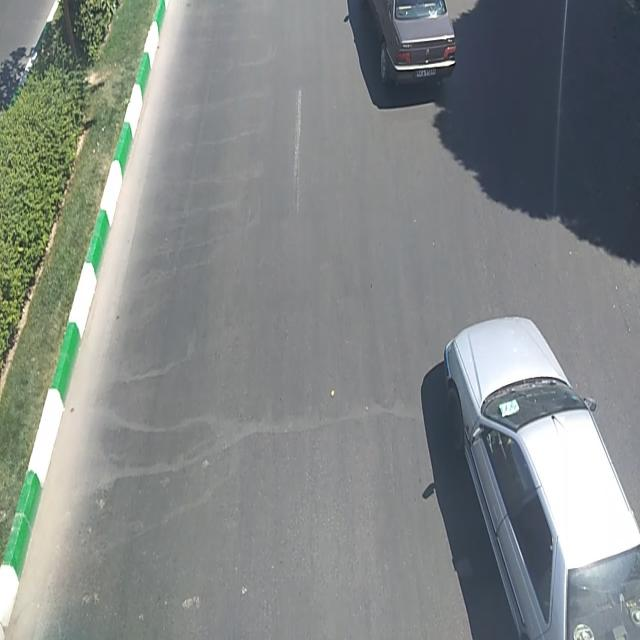car: (445, 315, 640, 640), (363, 5, 457, 86)
